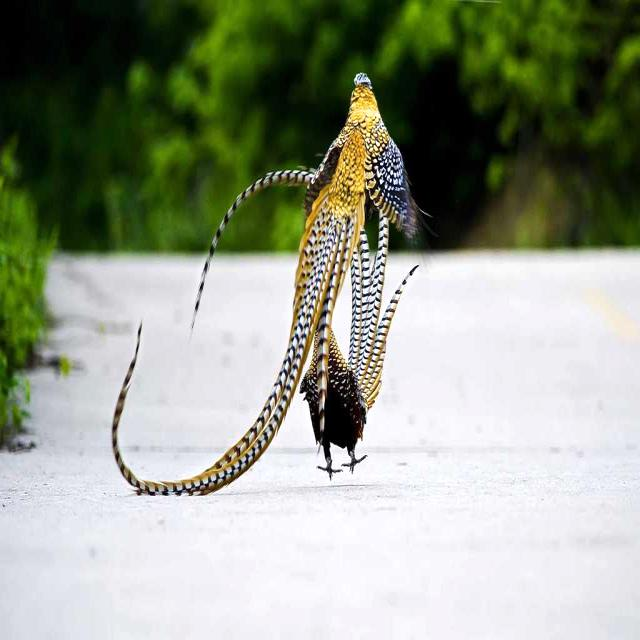Reeves-s Pheasant: (112, 183, 366, 496), (190, 166, 317, 339), (348, 211, 420, 408)
